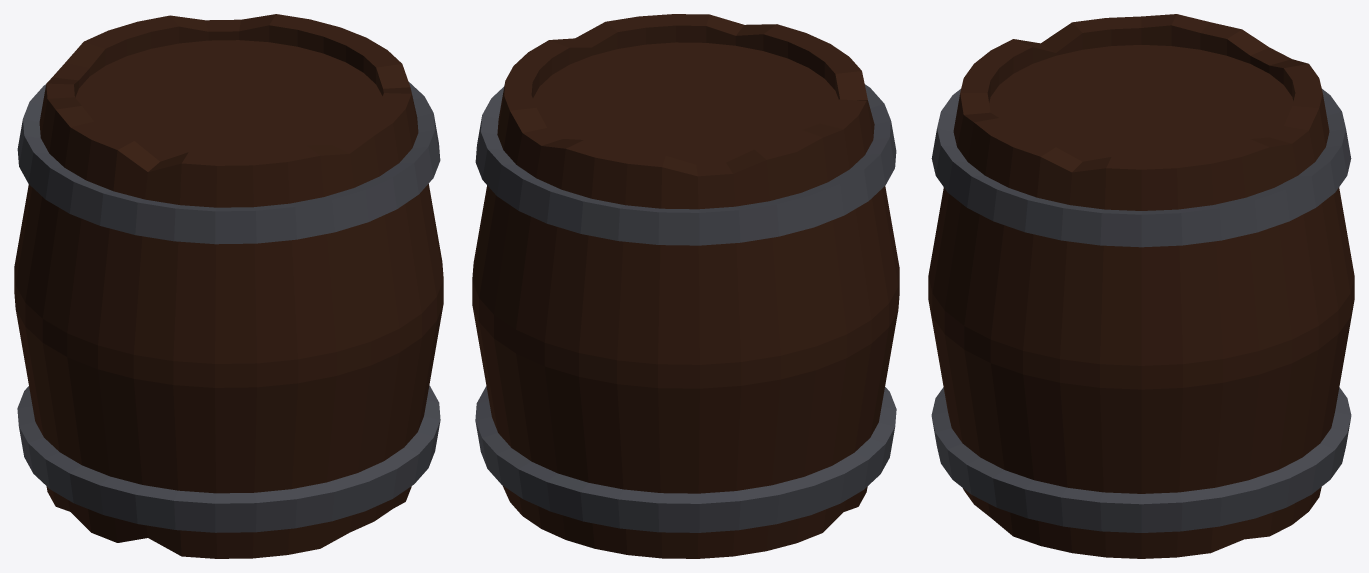
Rendered from Barrel_single.fbx.
3 renders of one model, left to right at view 1: azimuth 30°, elevation 25°; view 2: azimuth 150°, elevation 25°; view 3: azimuth 270°, elevation 25°, orthographic.
Parts seen in each view (by area): view 1: Cylinder, Cylinder.001; view 2: Cylinder, Cylinder.001; view 3: Cylinder, Cylinder.001.
Part boxes in pixels (x1,y1,x2,y2): Cylinder: [14, 14, 443, 558]; Cylinder.001: [17, 81, 440, 532]; Cylinder: [472, 14, 899, 558]; Cylinder.001: [475, 84, 896, 532]; Cylinder: [928, 14, 1354, 558]; Cylinder.001: [931, 88, 1351, 532].
Bounding box in the file's own units: 265 × 265 × 270.
